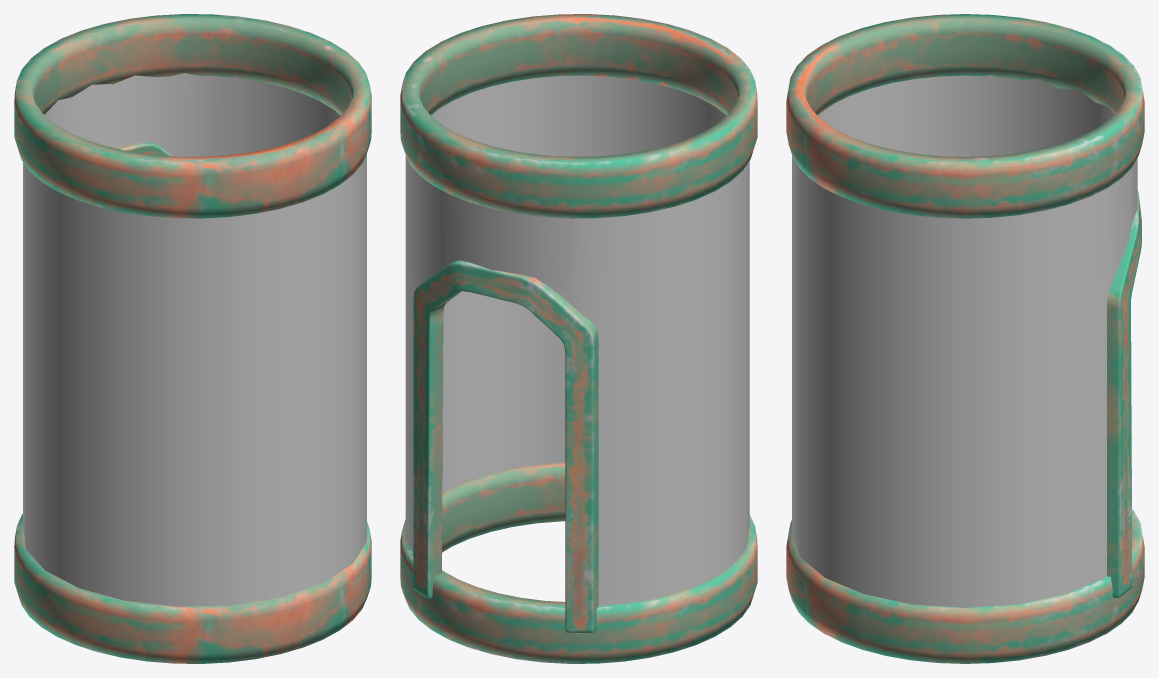
File: elevator_door.fbx
3 renders of one model, left to right at view 1: azimuth 30°, elevation 25°; view 2: azimuth 150°, elevation 25°; view 3: azimuth 270°, elevation 25°, orthographic.
Parts seen in each view (by area): view 1: elevator_glass, polySurface816, polySurface817; view 2: elevator_glass, polySurface816, polySurface817, polySurface812; view 3: elevator_glass, polySurface816, polySurface817, polySurface812.
Part boxes in pixels (x1=…): elevator_glass: x1=23, y1=73, x2=366, y2=606; polySurface816: x1=14, y1=14, x2=371, y2=218; polySurface817: x1=14, y1=514, x2=371, y2=663; elevator_glass: x1=405, y1=75, x2=749, y2=605; polySurface816: x1=400, y1=14, x2=757, y2=218; polySurface817: x1=400, y1=462, x2=757, y2=663; polySurface812: x1=413, y1=260, x2=598, y2=633; elevator_glass: x1=792, y1=75, x2=1137, y2=607; polySurface816: x1=786, y1=14, x2=1144, y2=218; polySurface817: x1=786, y1=509, x2=1144, y2=663; polySurface812: x1=1107, y1=190, x2=1141, y2=598.
Bounding box in the file's own units: 291 × 449 × 291.
